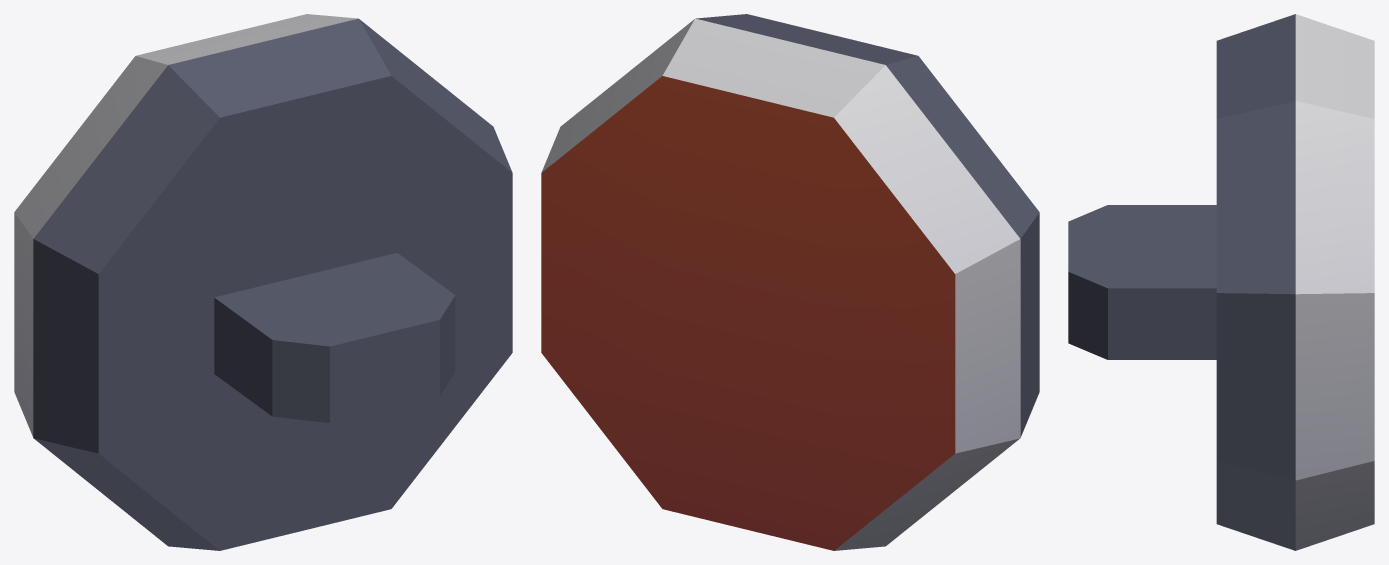
File: road-sign-object-stop.glb
3 renders of one model, left to right at view 1: azimuth 30°, elevation 25°; view 2: azimuth 150°, elevation 25°; view 3: azimuth 270°, elevation 25°, orthographic. The views are drawn at different scales.
Visible parts, largest first — view 1: geometry_0; view 2: geometry_0; view 3: geometry_0.
Part boxes in pixels (x1,y1,x2,y2): geometry_0: (14,14,512,550); geometry_0: (541,14,1039,550); geometry_0: (1068,14,1374,550).
Size of the model in its own units: 1.08 by 1.08 by 0.6661.
